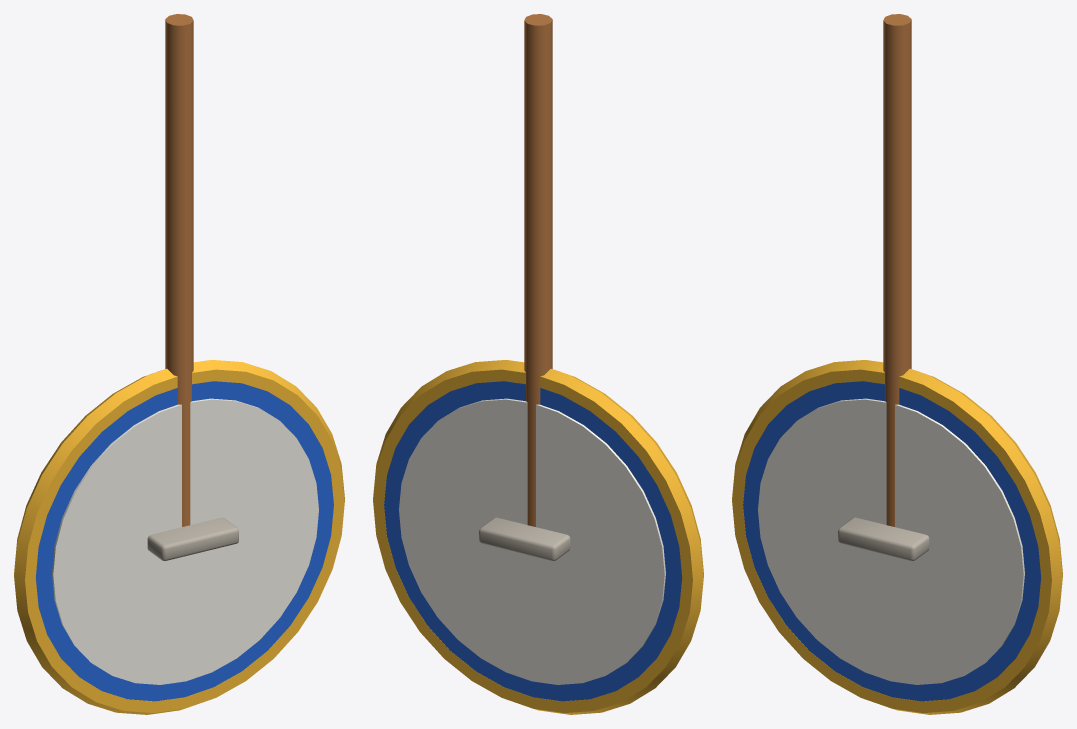
Rendered from adresstafel.glb.
3 views of the same model, side by side, from view 1: azimuth 30°, elevation 25°; view 2: azimuth 150°, elevation 25°; view 3: azimuth 330°, elevation 25° (orthographic).
Visible parts, largest first — view 1: Board, adresstafel_lod0; view 2: Board, adresstafel_lod0; view 3: Board, adresstafel_lod0.
Boxes of the visible parts, x1,y1,x2,y2 form: Board: [14, 360, 344, 714]; adresstafel_lod0: [147, 14, 238, 560]; Board: [373, 360, 703, 714]; adresstafel_lod0: [479, 14, 570, 560]; Board: [732, 360, 1062, 714]; adresstafel_lod0: [838, 14, 929, 560].
Bounding box in the file's own units: 2.14 × 4.27 × 0.5.
